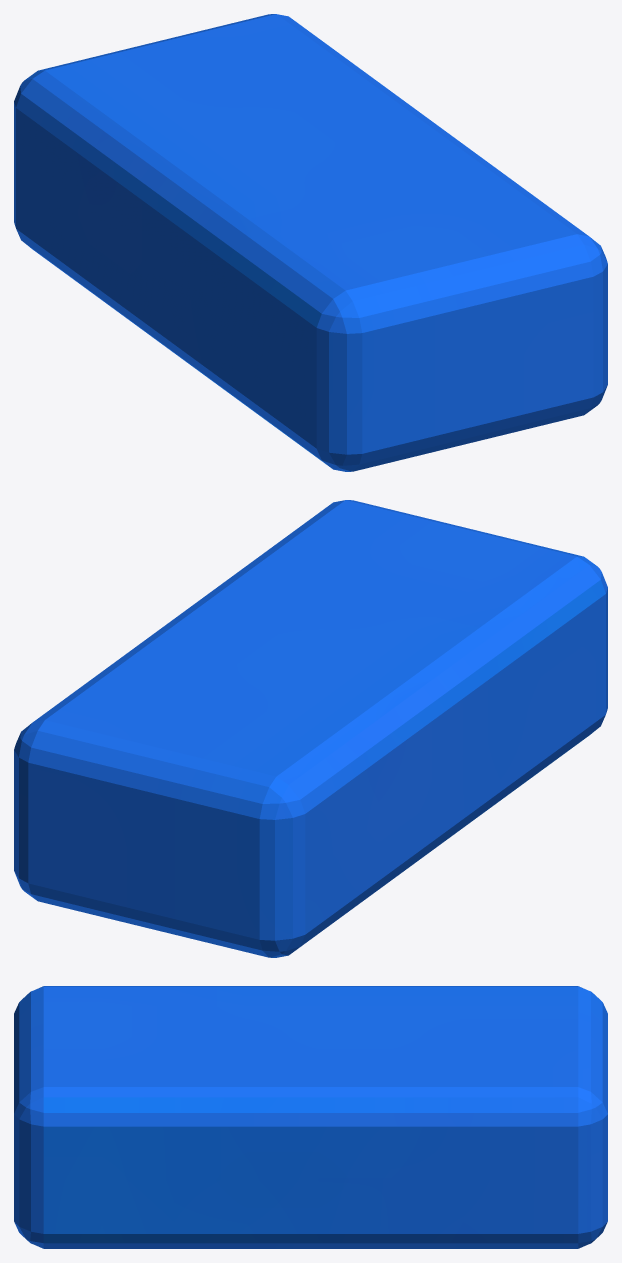
Rendered from ShortBlockBlue.fbx.
3 renders of one model, top to bottom at view 1: azimuth 30°, elevation 25°; view 2: azimuth 150°, elevation 25°; view 3: azimuth 270°, elevation 25°, orthographic. The views are drawn at different scales.
Parts seen in each view (by area): view 1: ShortBlock; view 2: ShortBlock; view 3: ShortBlock.
Part boxes in pixels (x1=…): ShortBlock: x1=14, y1=14, x2=607, y2=471; ShortBlock: x1=14, y1=500, x2=607, y2=957; ShortBlock: x1=14, y1=986, x2=607, y2=1248.
Bounding box in the file's own units: 2 × 1.2 × 4.
